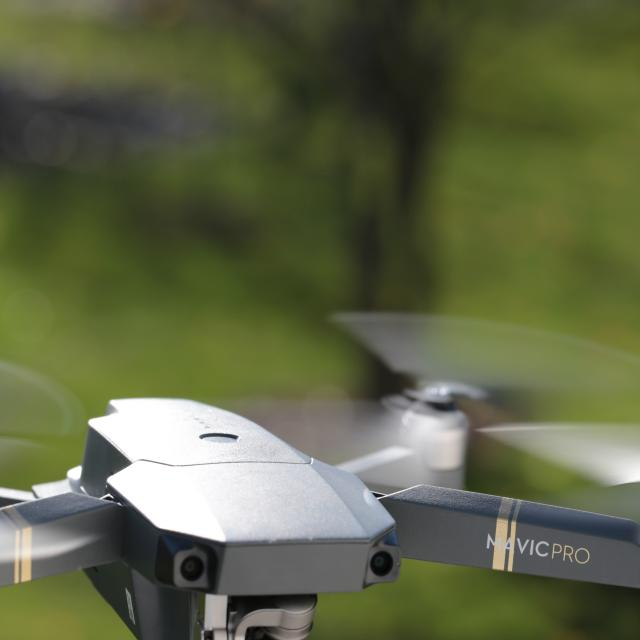drone: (0, 308, 640, 640)
